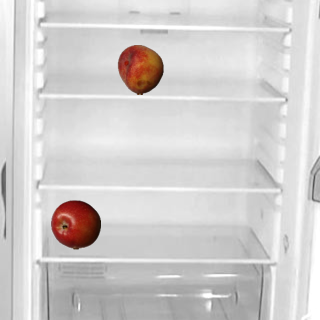Apple Braeburn: (50, 199, 100, 249)
Peach: (115, 44, 165, 94)
